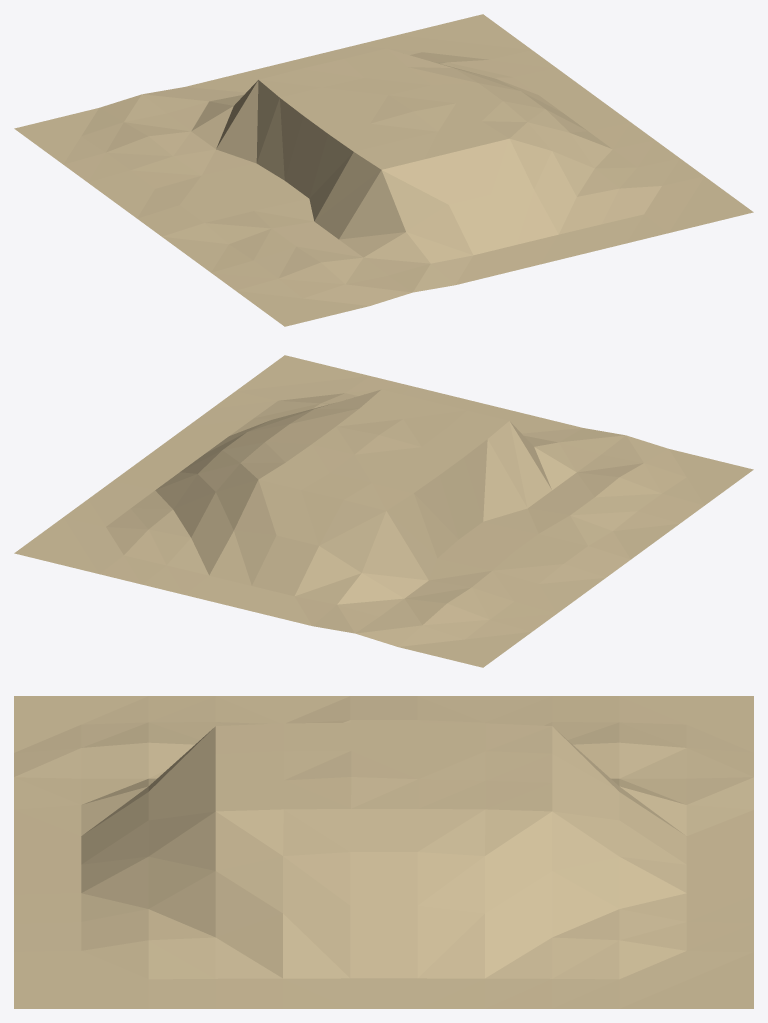
File: isla.dae
The picture shows the model from 3 angles, top to bottom: view 1: azimuth 30°, elevation 25°; view 2: azimuth 150°, elevation 25°; view 3: azimuth 270°, elevation 25°; orthographic projection. The views are drawn at different scales.
Visible parts, largest first — view 1: Plane; view 2: Plane; view 3: Plane.
Boxes of the visible parts, x1,y1,x2,y2 form: Plane: (14,14,753,326); Plane: (14,355,753,667); Plane: (14,696,753,1008).
Size of the model in its own units: 20 by 20 by 2.59.
